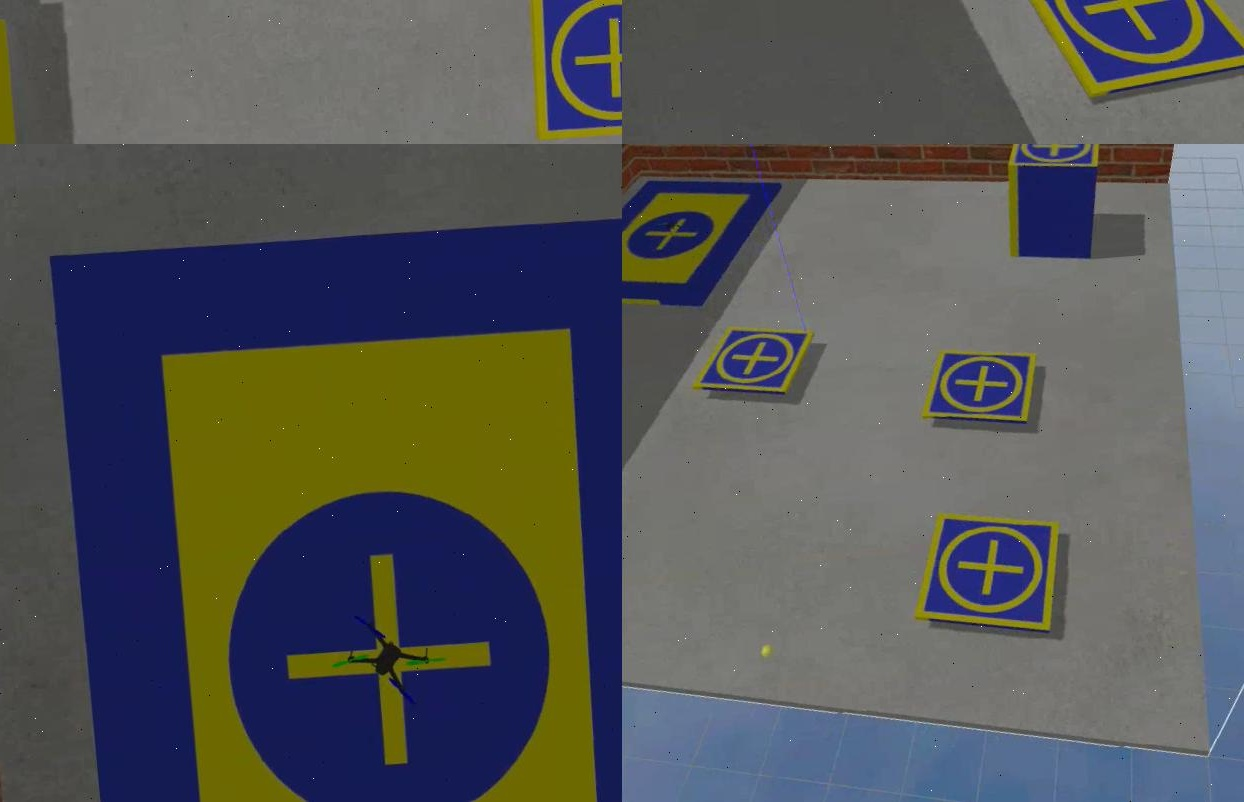large_base: (53, 207, 620, 802), (620, 172, 795, 328)
small_base: (999, 1, 1242, 111), (909, 505, 1068, 650), (521, 1, 620, 143), (917, 344, 1046, 438), (689, 324, 816, 409), (1001, 145, 1104, 175)
